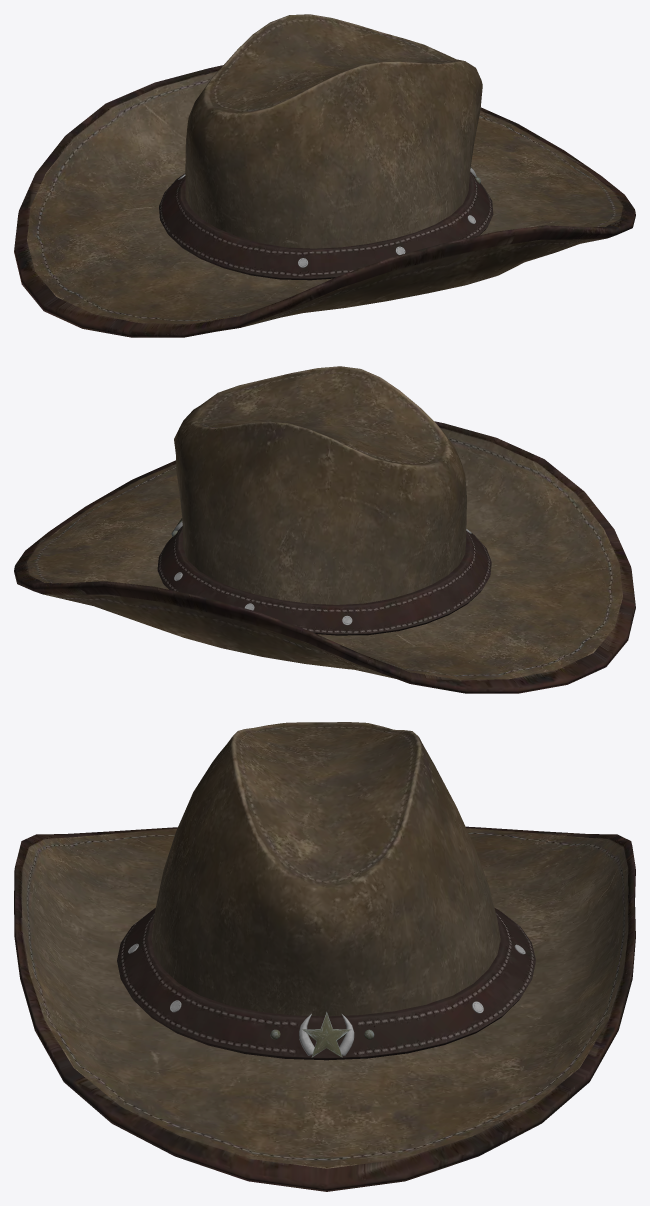
File: hat-transformed.glb
3 views of the same model, one above another, from view 1: azimuth 30°, elevation 25°; view 2: azimuth 150°, elevation 25°; view 3: azimuth 270°, elevation 25° (orthographic). The views are drawn at different scales.
Parts seen in each view (by area): view 1: polySurface1_aiStandardSurface1_0; view 2: polySurface1_aiStandardSurface1_0; view 3: polySurface1_aiStandardSurface1_0.
Boxes of the visible parts, bbox=[...] form: polySurface1_aiStandardSurface1_0: bbox=[14, 14, 635, 337]; polySurface1_aiStandardSurface1_0: bbox=[14, 366, 635, 693]; polySurface1_aiStandardSurface1_0: bbox=[14, 722, 635, 1191].
Bounding box in the file's own units: 5.43 × 1.95 × 4.03.
Materials: 1 (1 with a texture image).
